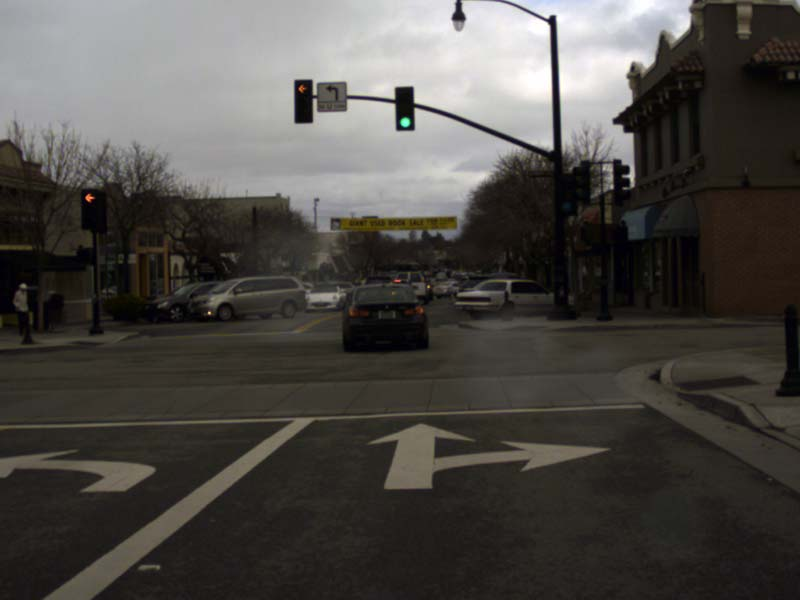Green: (394, 87, 414, 130)
Red: (294, 80, 312, 122), (82, 189, 98, 227)
